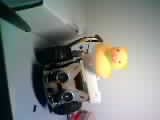duck: (87, 32, 124, 78)
